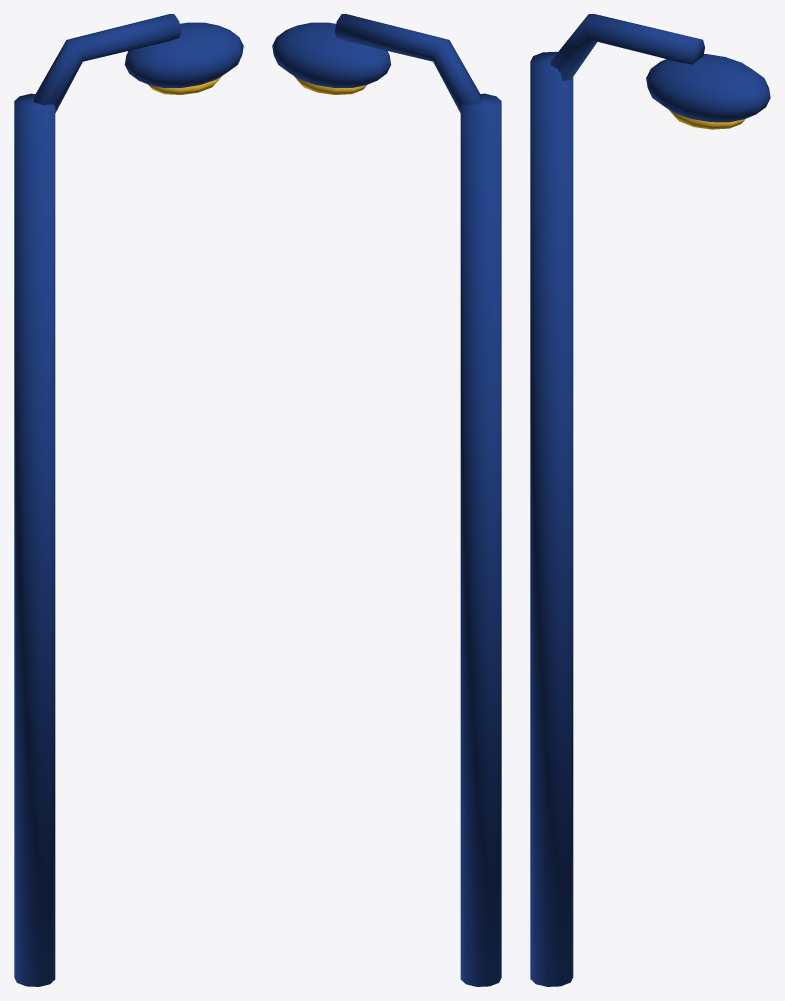
File: streetlamp.glb
3 renders of one model, left to right at view 1: azimuth 30°, elevation 25°; view 2: azimuth 150°, elevation 25°; view 3: azimuth 330°, elevation 25°, orthographic. The views are drawn at different scales.
Visible parts, largest first — view 1: Body; view 2: Body; view 3: Body.
Boxes of the visible parts, box(x1,y1,x2,y2) form: Body: box(14, 14, 243, 986); Body: box(272, 14, 501, 986); Body: box(530, 14, 770, 986).
Bounding box in the file's own units: 1.11 × 4.46 × 0.4.
